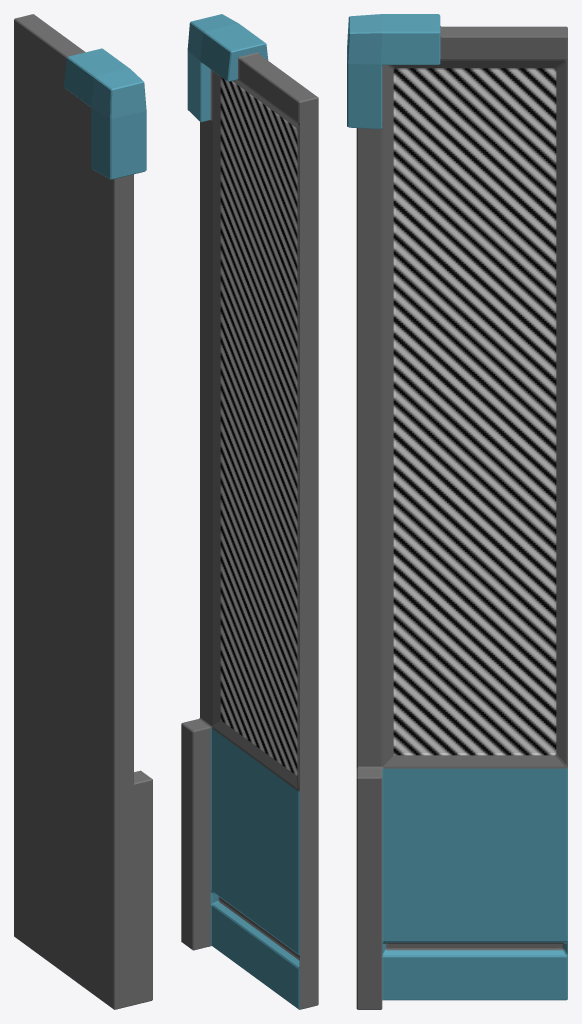
The model's file is SM_Tablet_SM_Tablet.fbx.
3 views of the same model, side by side, from view 1: azimuth 30°, elevation 25°; view 2: azimuth 210°, elevation 25°; view 3: azimuth 270°, elevation 25° (orthographic). The views are drawn at different scales.
Parts seen in each view (by area): view 1: SM_Tablet_SM_Tablet; view 2: SM_Tablet_SM_Tablet; view 3: SM_Tablet_SM_Tablet.
Boxes of the visible parts, x1=… form: SM_Tablet_SM_Tablet: x1=14, y1=14, x2=152, y2=1009; SM_Tablet_SM_Tablet: x1=181, y1=14, x2=318, y2=1009; SM_Tablet_SM_Tablet: x1=347, y1=14, x2=567, y2=1009.
Size of the model in its own units: 6.07 by 21.89 by 106.
Materials: 1 (1 with a texture image).
